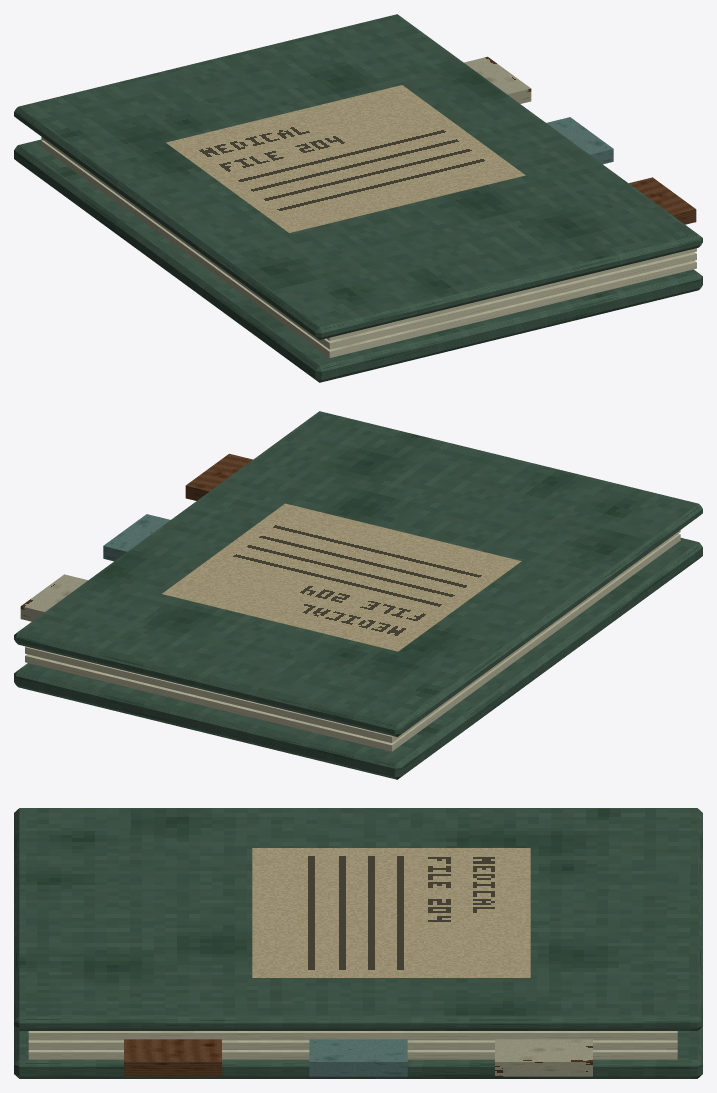
File: medical_folder.glb
3 renders of one model, top to bottom at view 1: azimuth 30°, elevation 25°; view 2: azimuth 150°, elevation 25°; view 3: azimuth 270°, elevation 25°, orthographic. The views are drawn at different scales.
Visible parts, largest first — view 1: Card cover.002, Medical_Folder_Mesh.002, Folder label.002; view 2: Card cover.002, Medical_Folder_Mesh.002, Folder label.002; view 3: Card cover.002, Folder label.002, Medical_Folder_Mesh.002.
Part boxes in pixels (x1,y1,x2,y2): Card cover.002: (14, 14, 702, 339); Medical_Folder_Mesh.002: (14, 56, 702, 382); Folder label.002: (166, 85, 525, 232); Card cover.002: (14, 411, 702, 736); Medical_Folder_Mesh.002: (14, 453, 702, 779); Folder label.002: (162, 503, 521, 651); Card cover.002: (14, 808, 702, 1030); Folder label.002: (252, 848, 530, 977); Medical_Folder_Mesh.002: (14, 1026, 702, 1078).
Bounding box in the file's own units: 0.2095 × 0.0262 × 0.26.
Materials: 2 (2 with a texture image).
